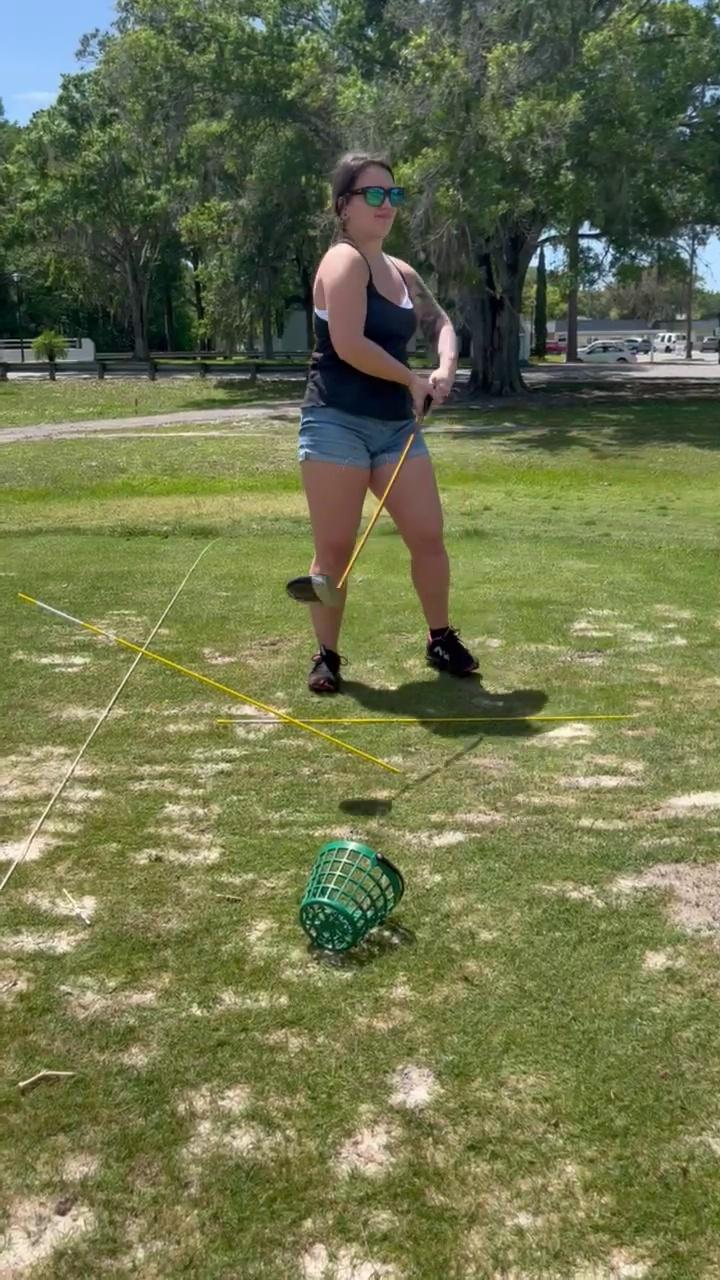ClubHead: (282, 559, 347, 627)
